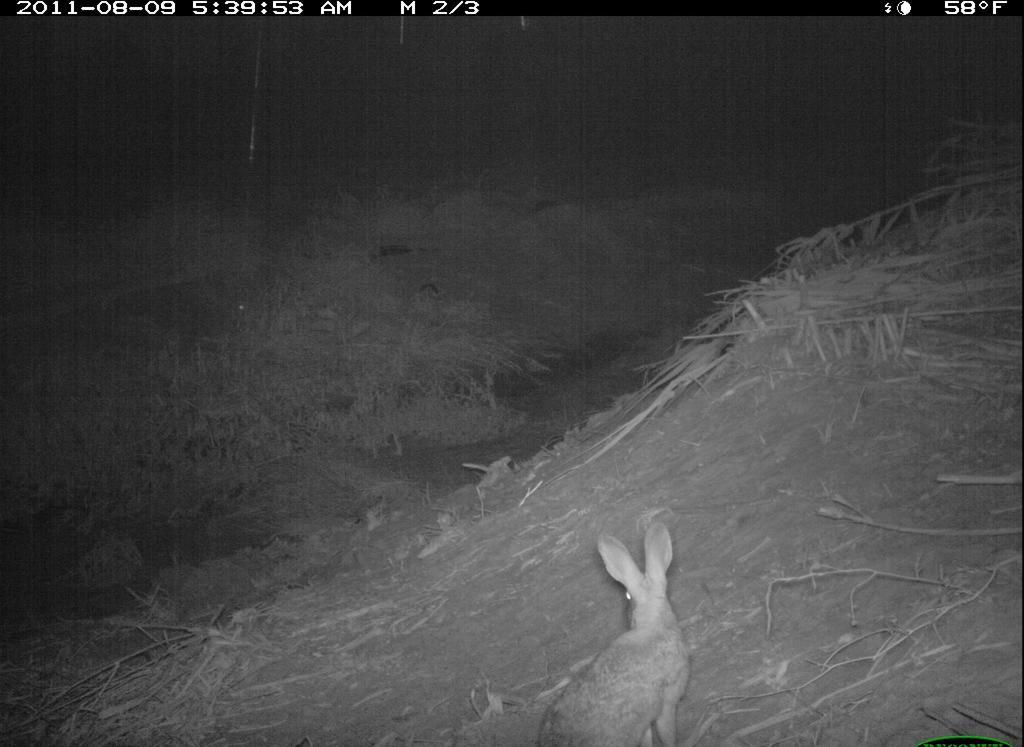rabbit: (525, 516, 701, 744)
